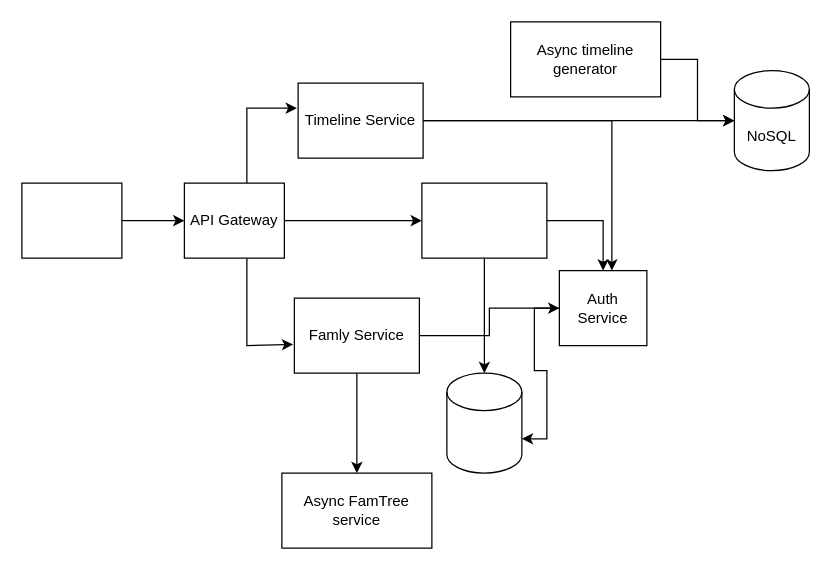
Image size: 831x570. Some labels were removed from this diagram. Here are the shapes that lost their labels. From the top down, the centre of each, then its label:
At (71,220): "User".
At (484,220): "User Service".
At (484,422): "RDS DB".
